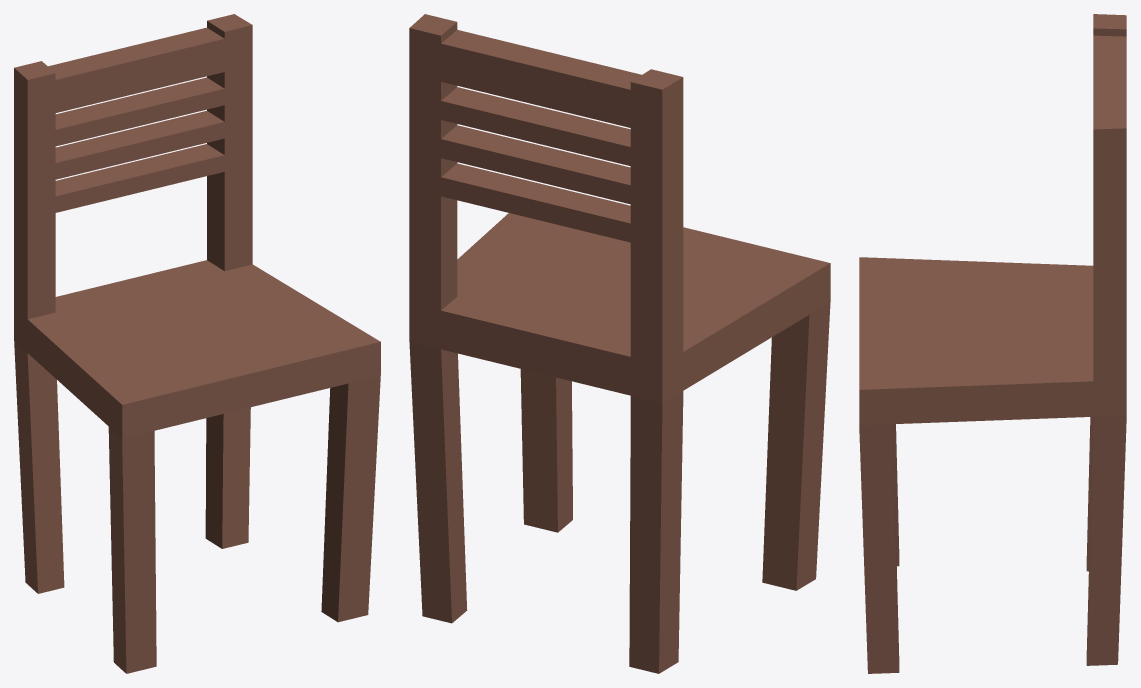
The model's file is Chair.fbx.
3 views of the same model, side by side, from view 1: azimuth 30°, elevation 25°; view 2: azimuth 150°, elevation 25°; view 3: azimuth 270°, elevation 25° (orthographic). The views are drawn at different scales.
Parts seen in each view (by area): view 1: Chair.003; view 2: Chair.003; view 3: Chair.003.
Boxes of the visible parts, left/top/right/bottom form: Chair.003: left=14, top=14, right=380, bottom=673; Chair.003: left=409, top=14, right=830, bottom=673; Chair.003: left=859, top=14, right=1126, bottom=673.
Size of the model in its own units: 97.53 by 185 by 83.06.
